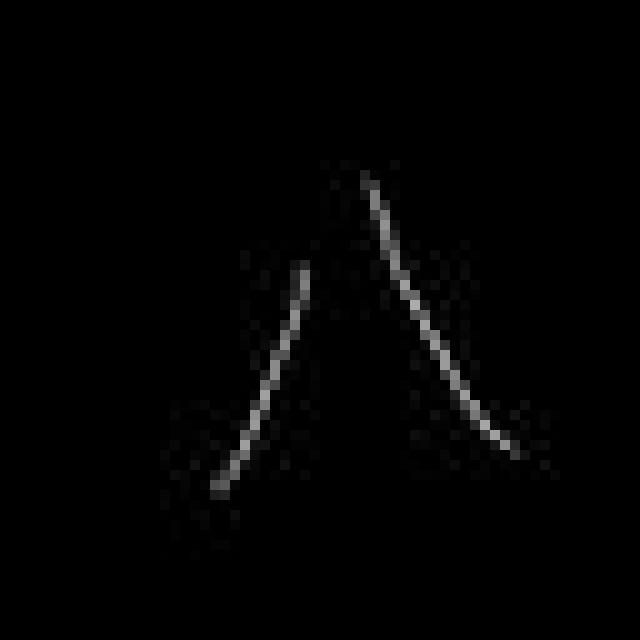8 -eight-: (198, 185, 525, 512)
